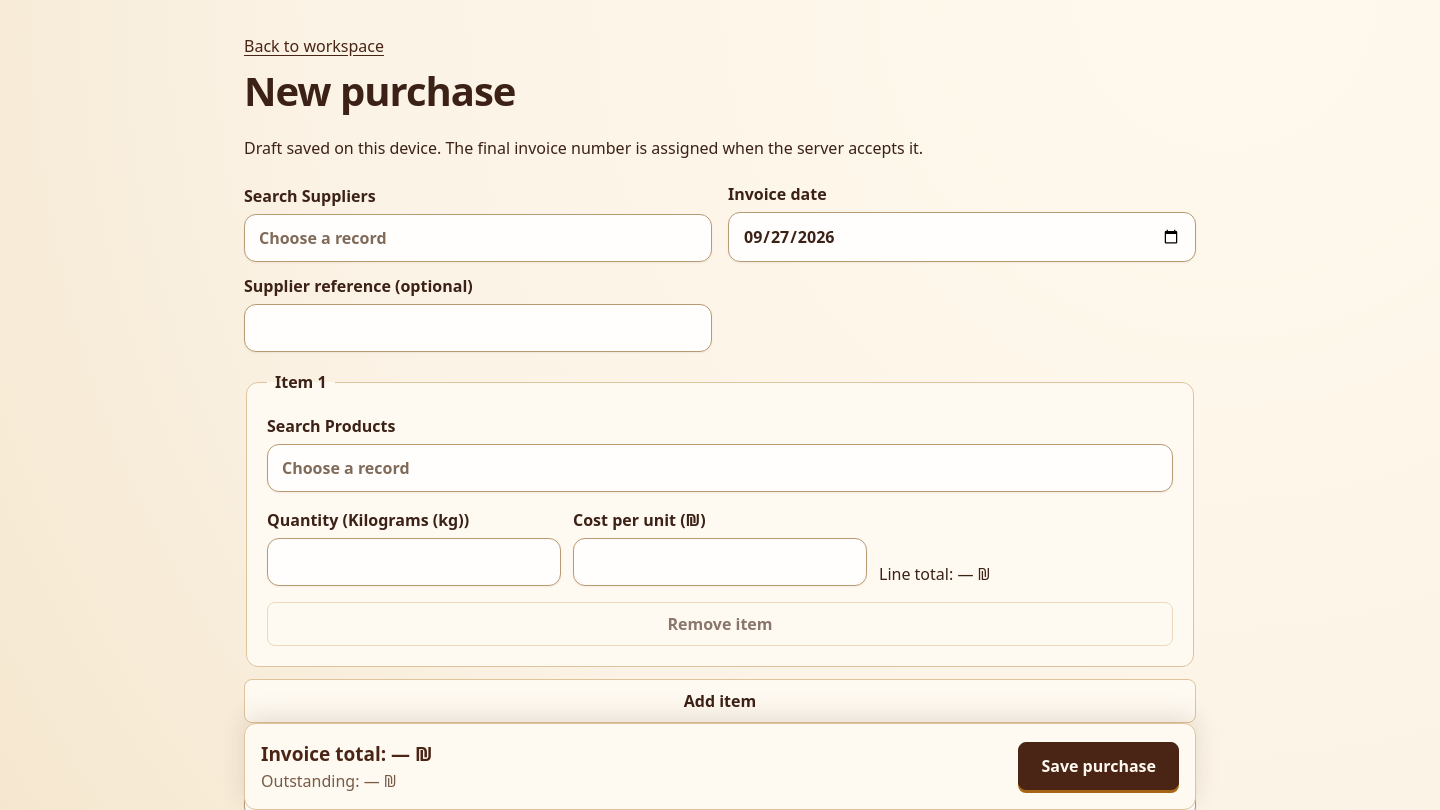
Scenario: searches and selects a supplier in one purchase field
Type "Supp" into the dropdown labelled "Search Suppliers" at (478, 238), box left=244, top=214, right=712, bottom=262
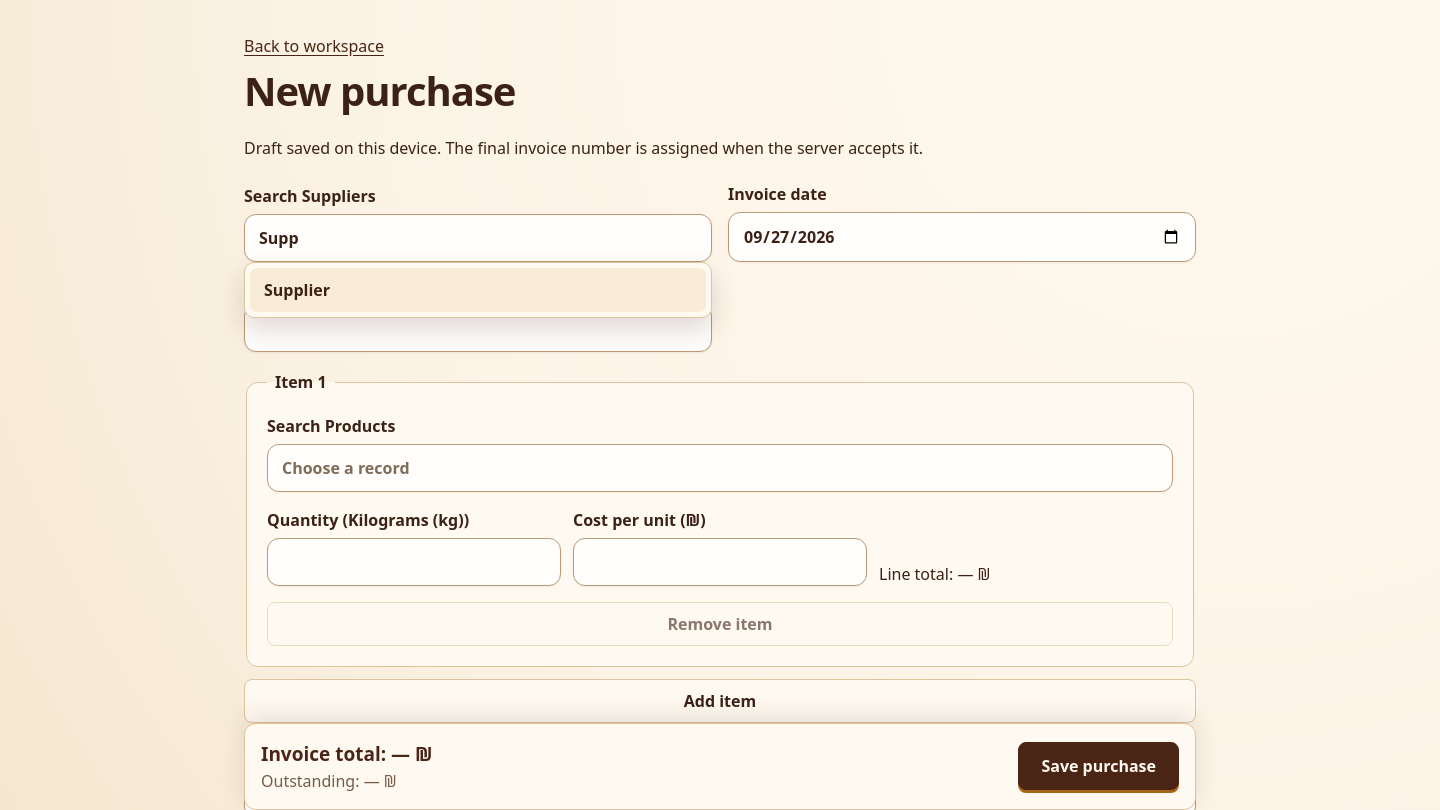
Click the option "Supplier" at (297, 290), box left=250, top=268, right=706, bottom=312
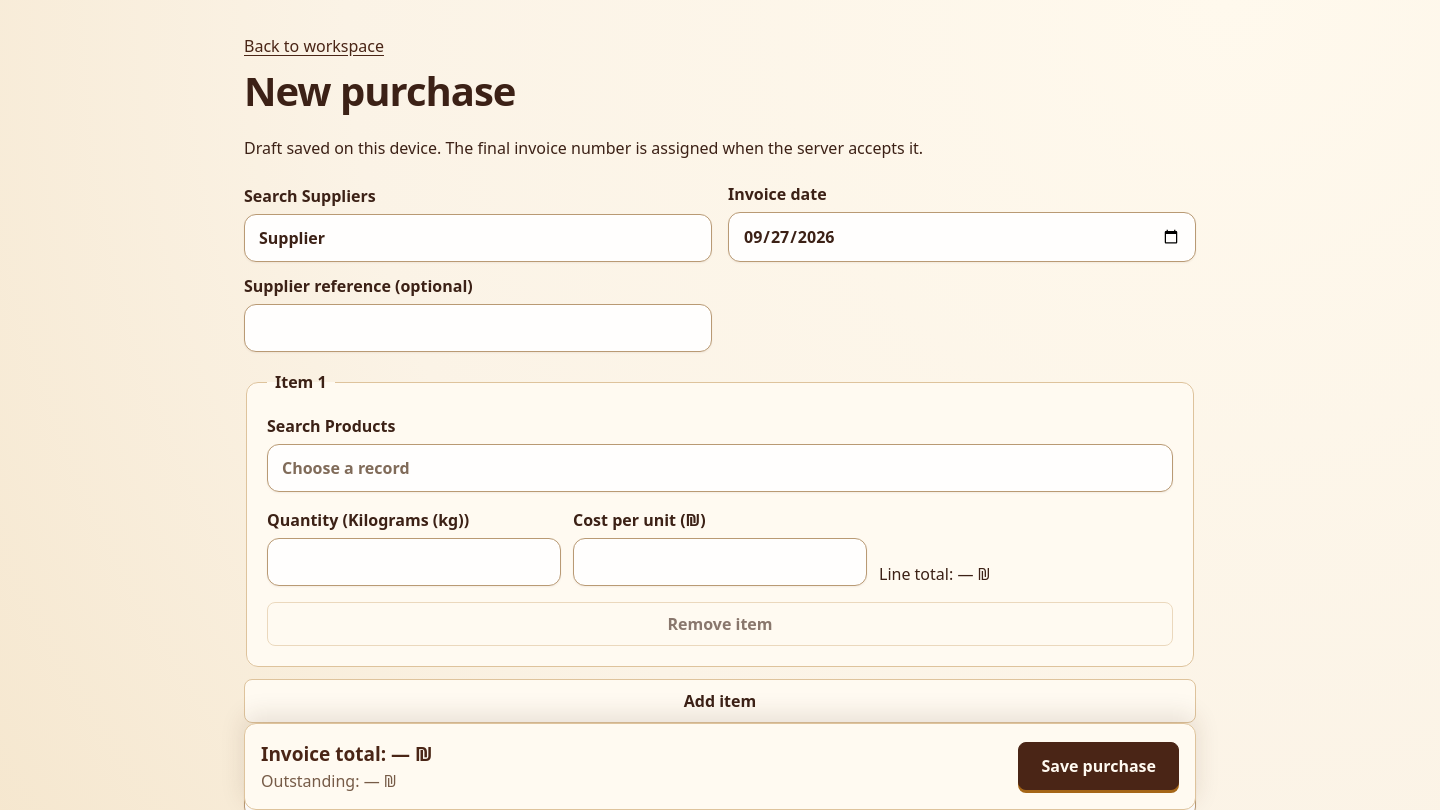
Result: the dropdown labelled "Search Suppliers" holds "Supplier" at left=244, top=214, right=712, bottom=262
